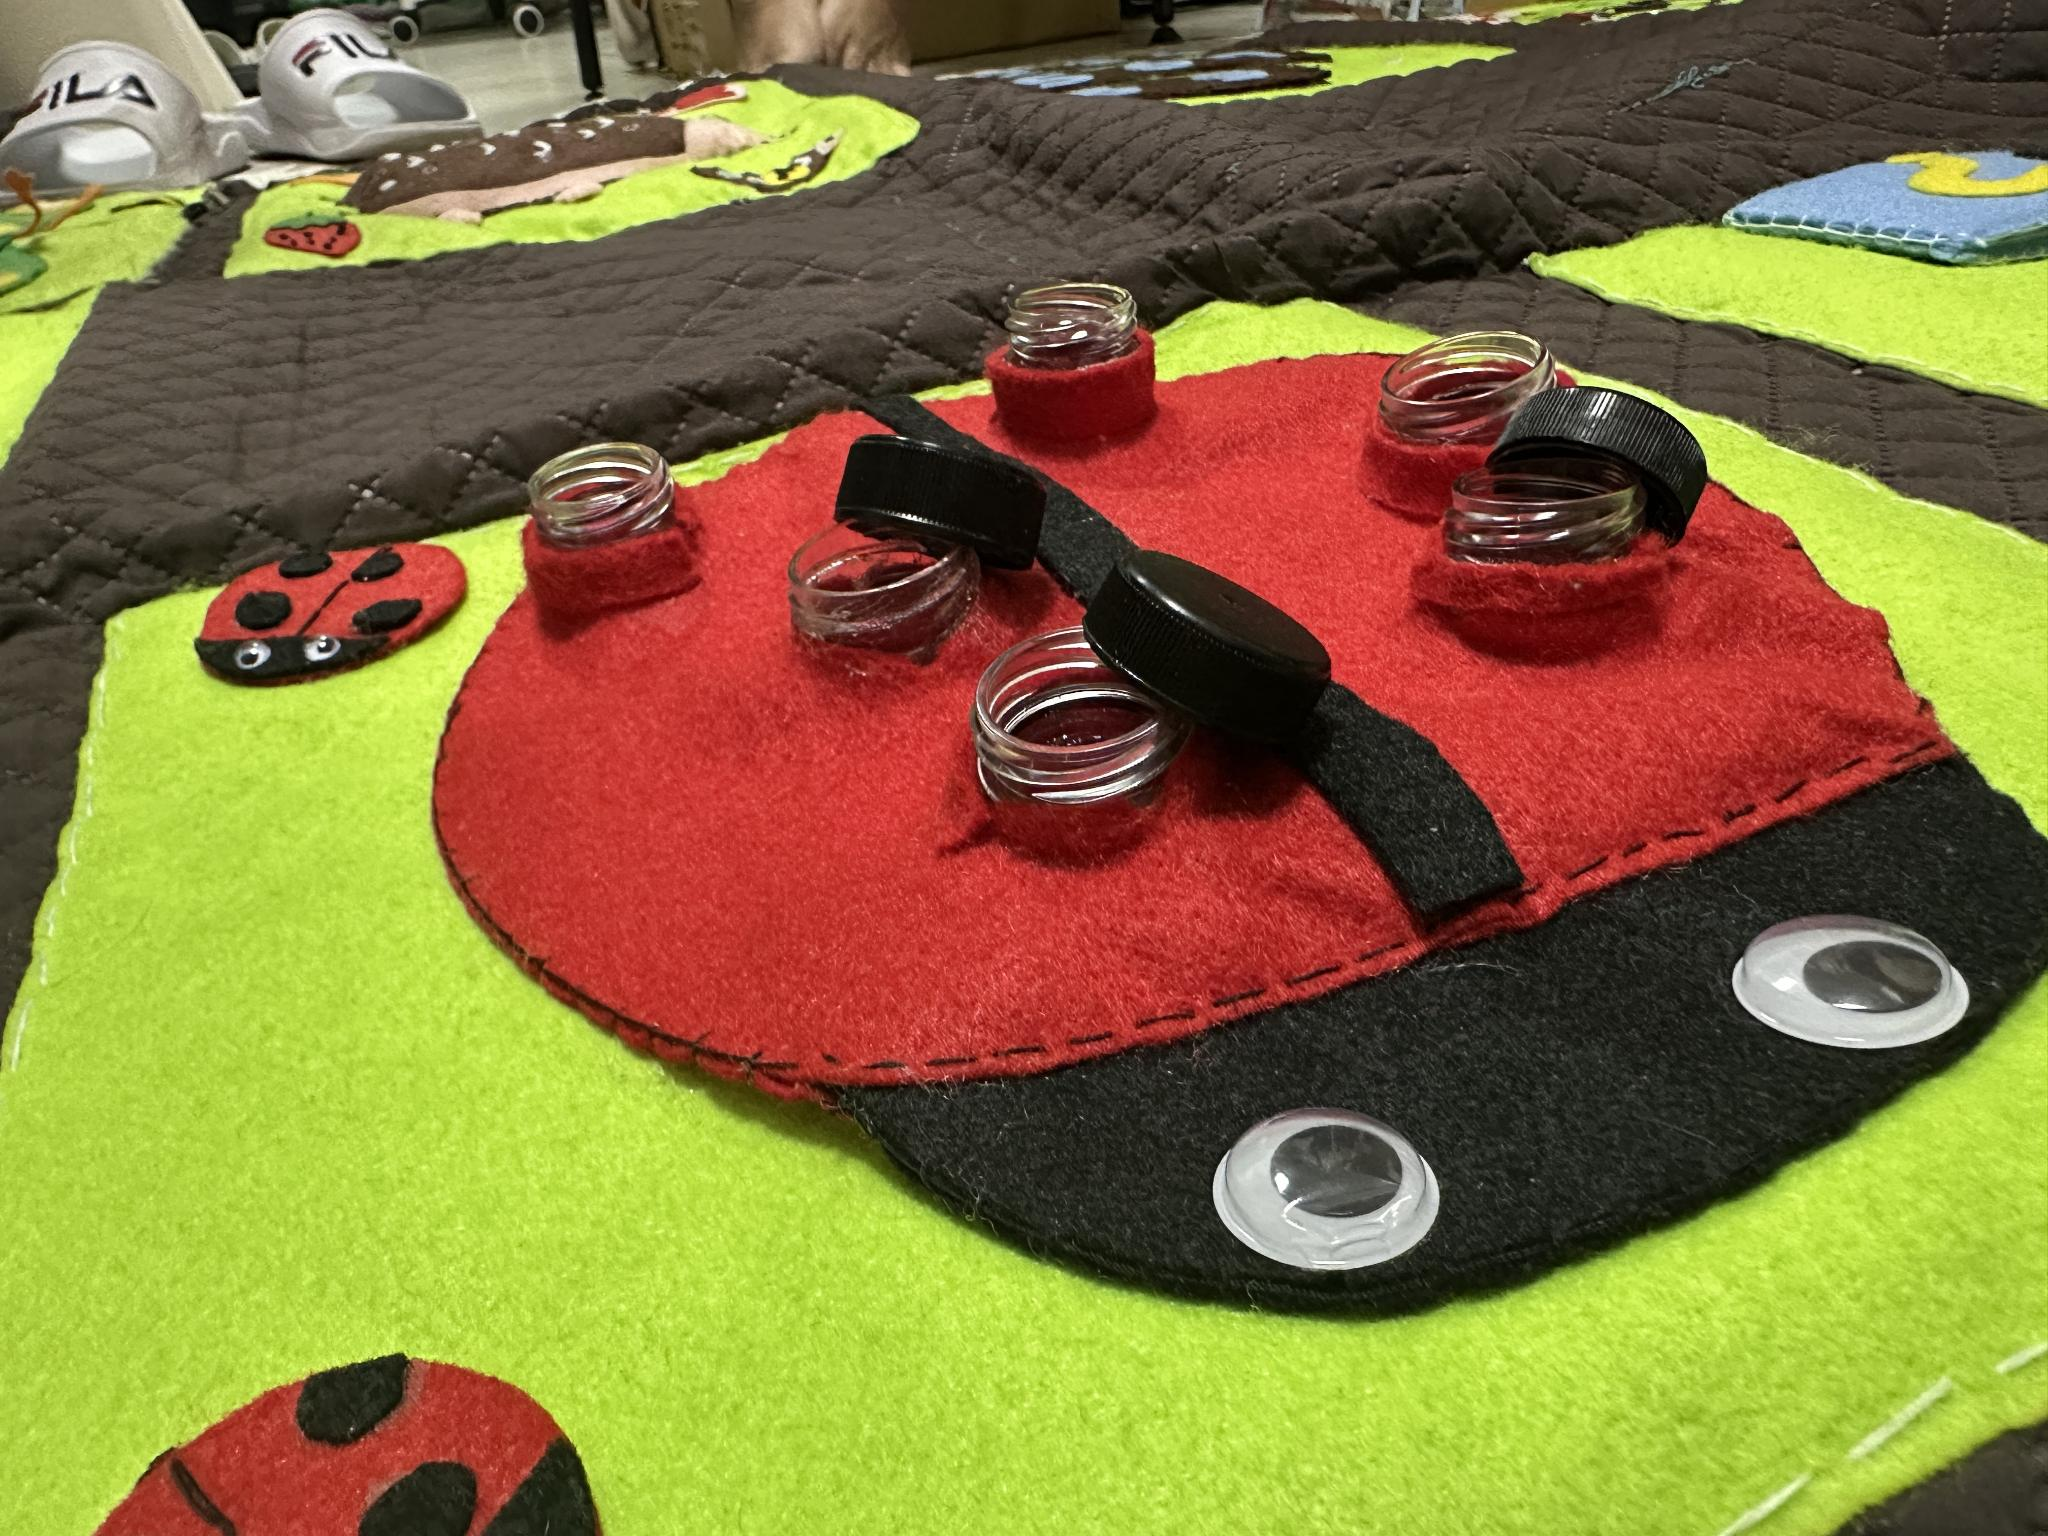cap_ng: (972, 553, 1335, 836), (782, 424, 1063, 673), (1442, 384, 1714, 629)
